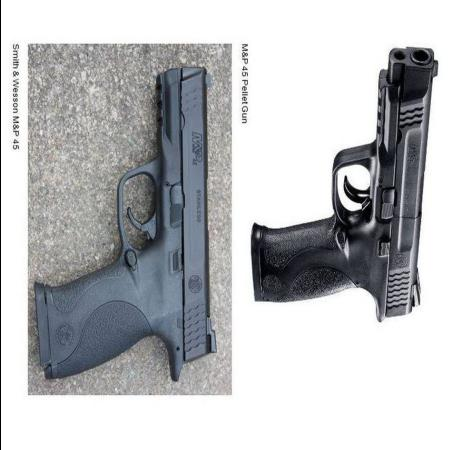Pistol: (34, 66, 216, 382), (250, 37, 445, 322)
